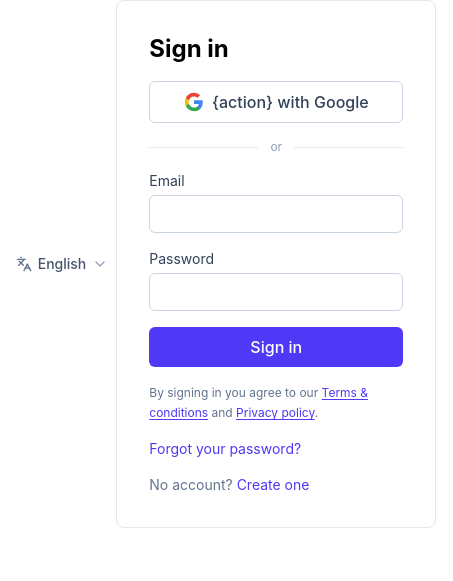
it: LoginPage › renders the server error message on bad credentials
Expected: the button "Sign in" is shown, [149, 327, 403, 367]
Type "ada@example.com" into the field labelled "Email" at point(276, 214), box [149, 195, 403, 233]
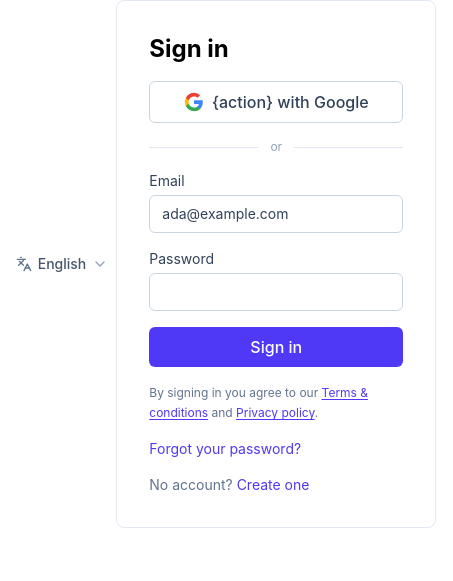
Type "longenough1" into the password field labelled "Password" at point(276, 292), box [149, 273, 403, 311]
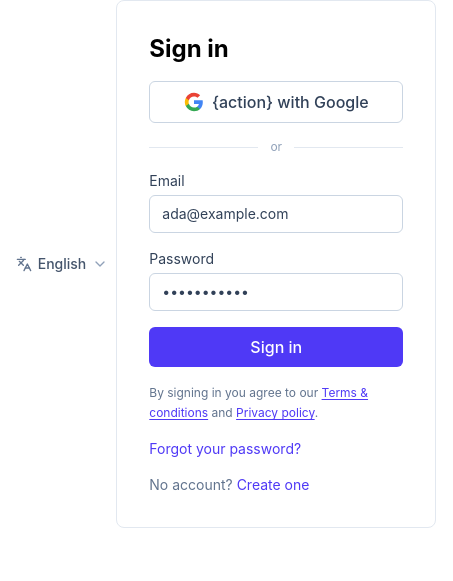
Click the button "Sign in" at point(276, 347), box [149, 327, 403, 367]
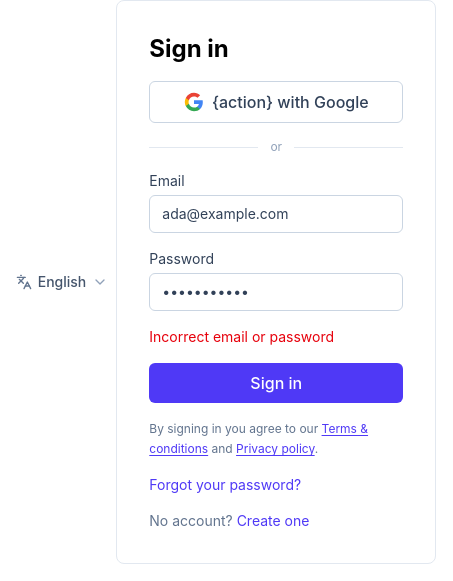
Expected: the message reads "Incorrect email or password", [149, 328, 334, 345]
